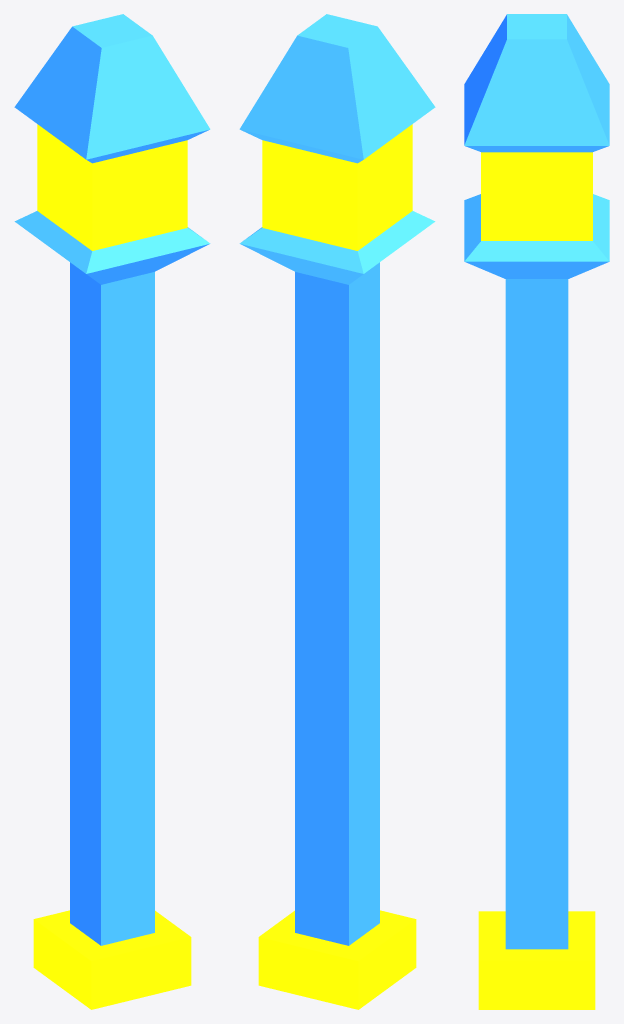
The model's file is Lamp.fbx.
3 renders of one model, left to right at view 1: azimuth 30°, elevation 25°; view 2: azimuth 150°, elevation 25°; view 3: azimuth 270°, elevation 25°, orthographic.
Visible parts, largest first — view 1: Lamp; view 2: Lamp; view 3: Lamp.
Boxes of the visible parts, <box> form: Lamp: <box>14,14,210,1009</box>; Lamp: <box>239,14,435,1009</box>; Lamp: <box>464,14,609,1009</box>.
Bounding box in the file's own units: 62.44 × 454 × 62.44.
